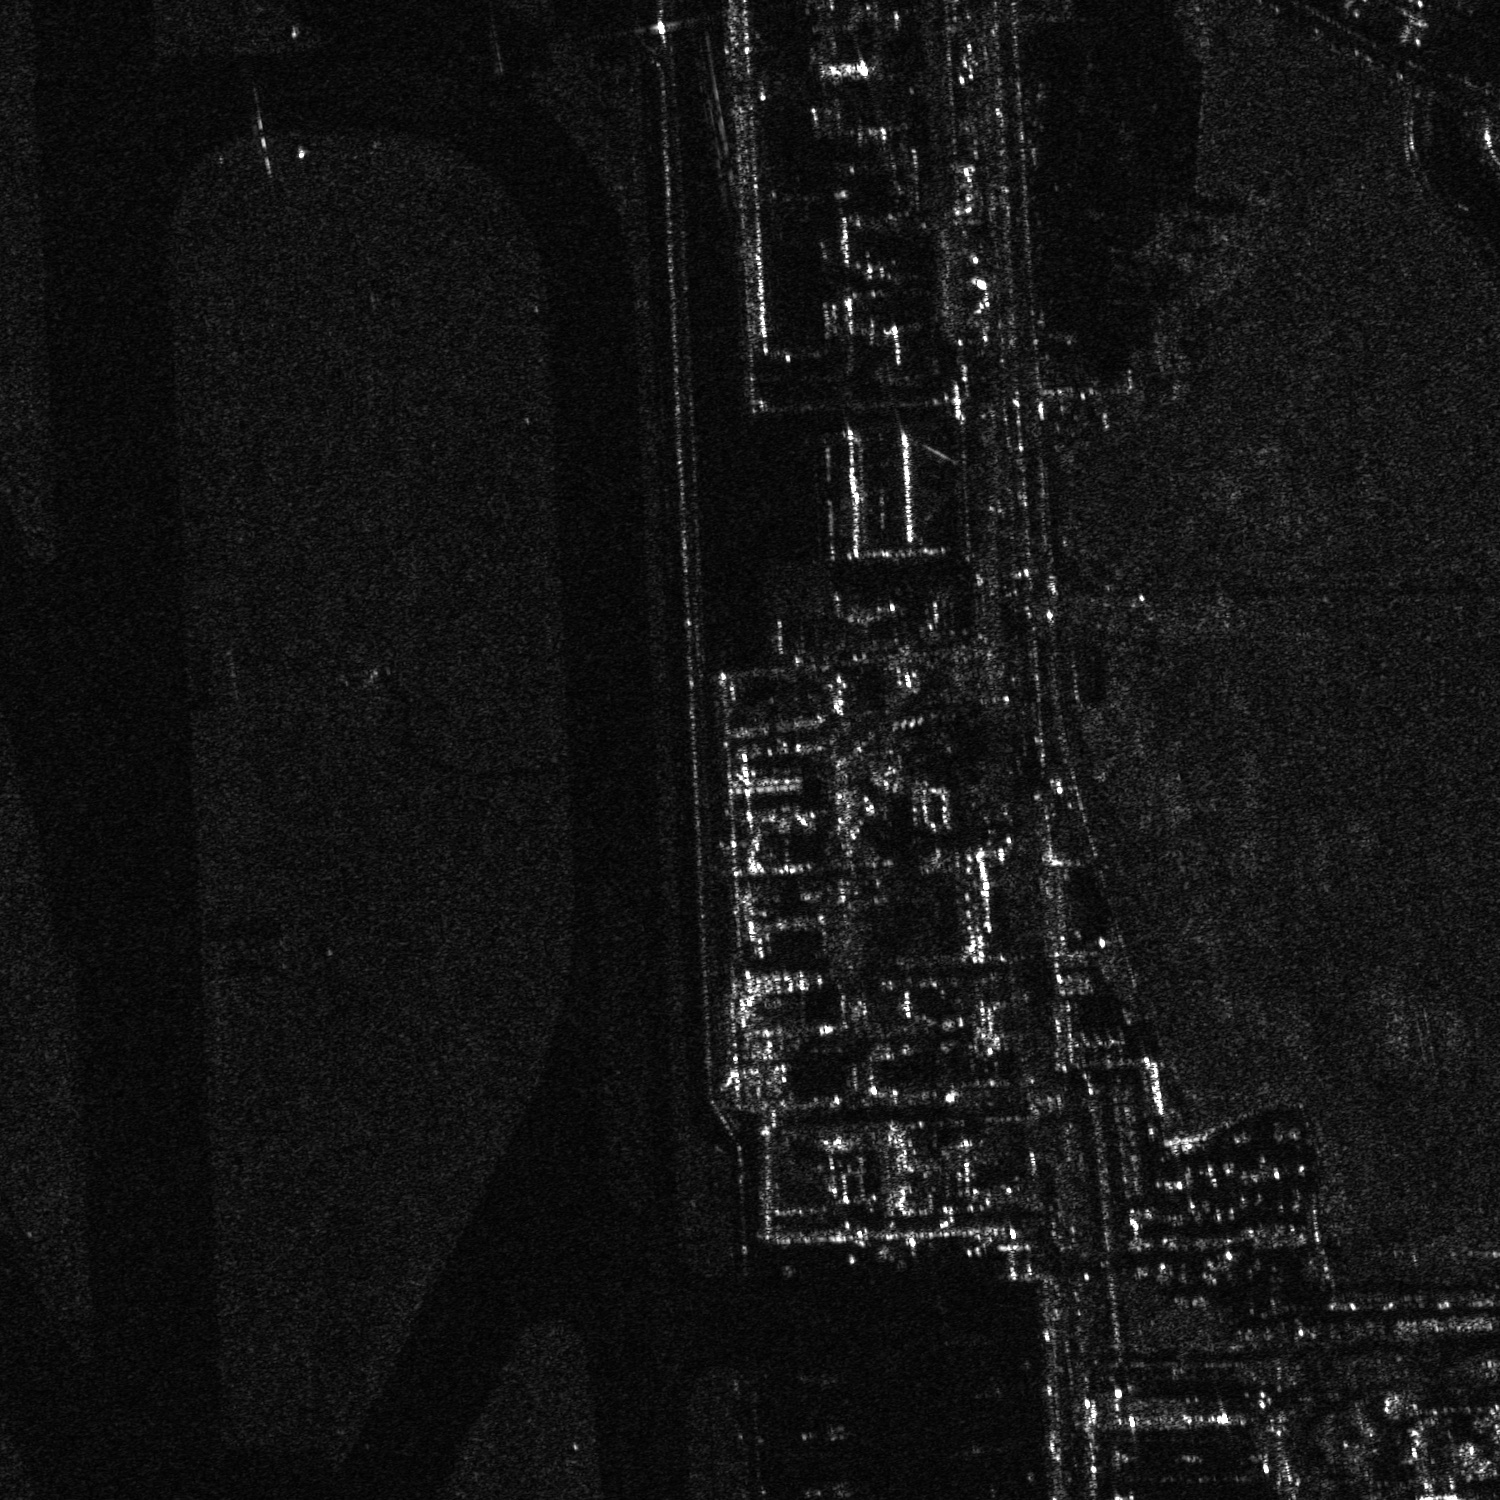ARJ21: (795, 1412, 859, 1455), (798, 1468, 867, 1499)
other: (786, 1360, 842, 1394)
